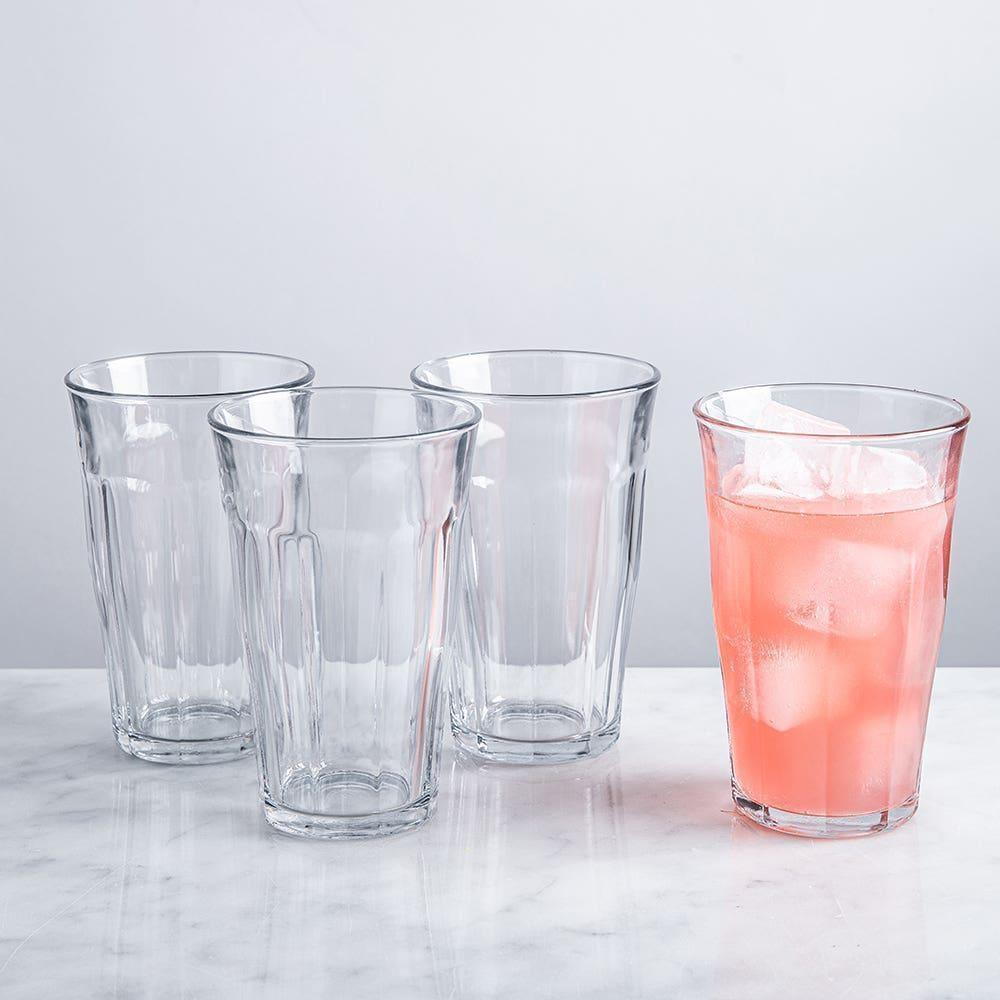glass-normal: (690, 379, 973, 842), (204, 382, 481, 843), (409, 346, 663, 768), (61, 347, 312, 766)
